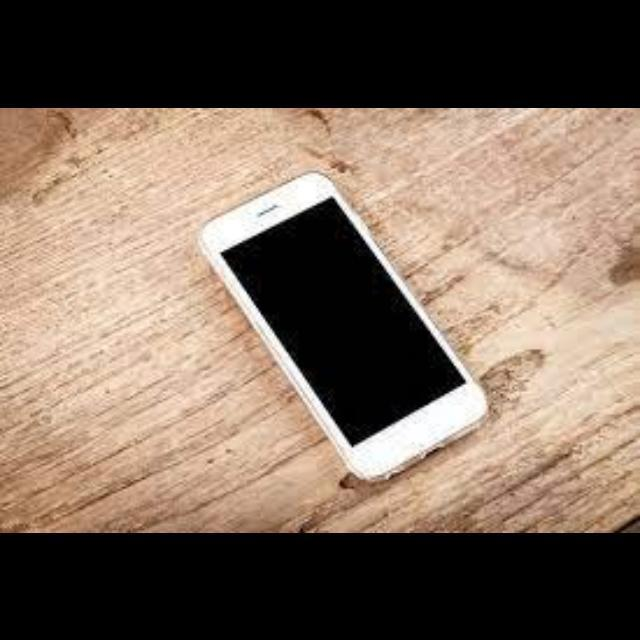PhoneUse: (176, 178, 490, 492)
